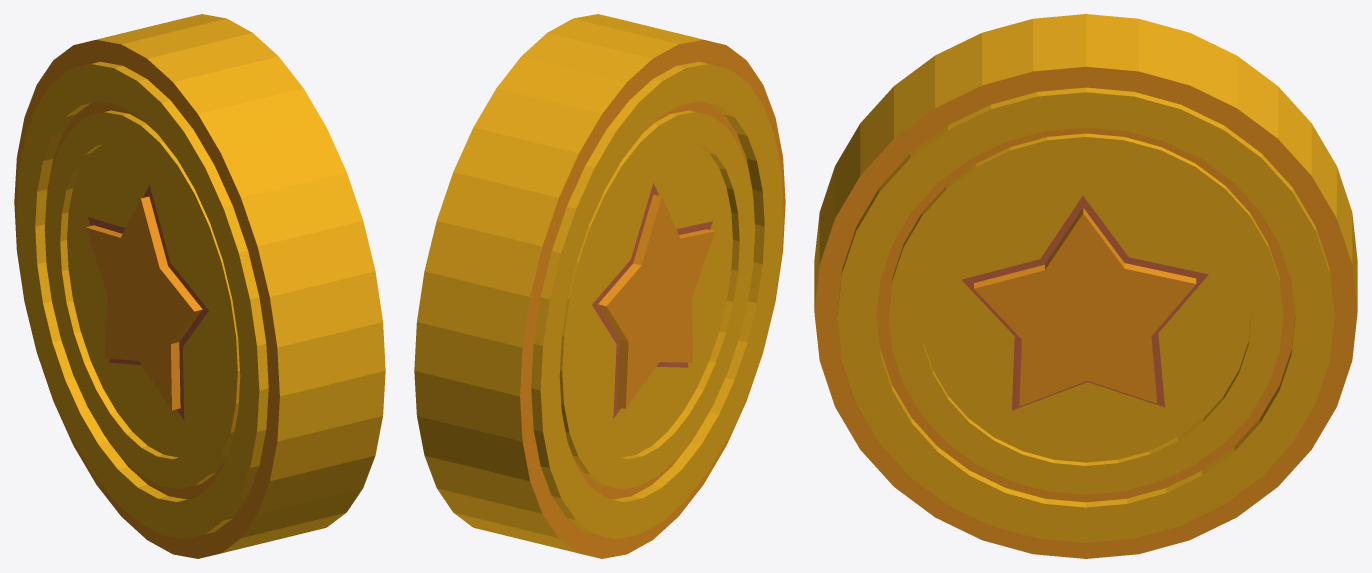
The model's file is moeda.fbx.
3 renders of one model, left to right at view 1: azimuth 30°, elevation 25°; view 2: azimuth 150°, elevation 25°; view 3: azimuth 270°, elevation 25°, orthographic. The views are drawn at different scales.
Parts seen in each view (by area): view 1: Circle.002; view 2: Circle.002; view 3: Circle.002.
Boxes of the visible parts, x1=… form: Circle.002: x1=14, y1=14, x2=385, y2=558; Circle.002: x1=414, y1=14, x2=785, y2=558; Circle.002: x1=814, y1=14, x2=1357, y2=558.
Size of the model in its own units: 31.09 by 112 by 112.
